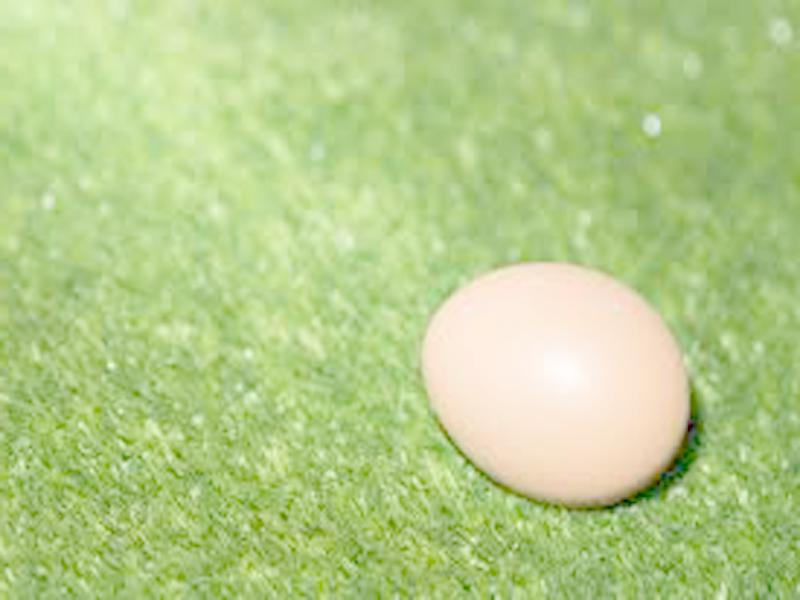Eggs: (418, 266, 691, 508)
